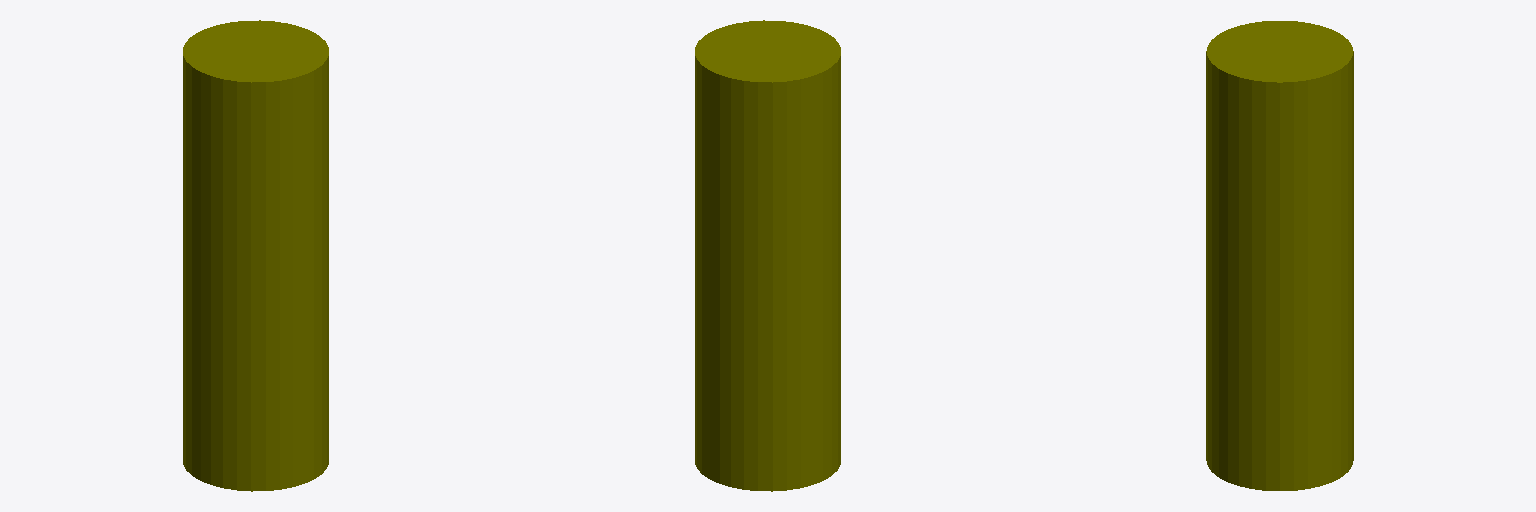
URDF robot description (myfirst):
<?xml version="1.0"?>
 <robot name="myfirst">
 
   <material name="golden">
     <color rgba="0.50196 0.50196 0 1"/>
   </material>
   
   <link name="base_link">
     <visual>
       <geometry>
         <cylinder length="0.135" radius="0.022"/>
       </geometry>
       <material name="golden"/>
     </visual>

     <inertial>
       <mass value="0"/>
       <inertia ixx="0.0" ixy="0.0" ixz="0.0" iyy="0.0" iyz="0.0" izz="0.0"/>
     </inertial>

   </link>

 </robot>

--- Facts derived from the render (not from the file) ---
3 views of the same robot in one strip: view 1: azimuth 30°, elevation 25°; view 2: azimuth 150°, elevation 25°; view 3: azimuth 270°, elevation 25° (orthographic).
Robot: myfirst — 1 links, 0 joints (none); root link base_link; default pose: every joint at zero.
Visible links, largest first — view 1: base_link; view 2: base_link; view 3: base_link.
Link boxes in pixels (x1=…): base_link: x1=183, y1=20, x2=328, y2=491; base_link: x1=695, y1=20, x2=840, y2=491; base_link: x1=1206, y1=21, x2=1353, y2=490.
Size in the robot's own frame: 0.044 by 0.044 by 0.135 metres.
Geometry: primitives only (box / cylinder / sphere), no mesh files.
